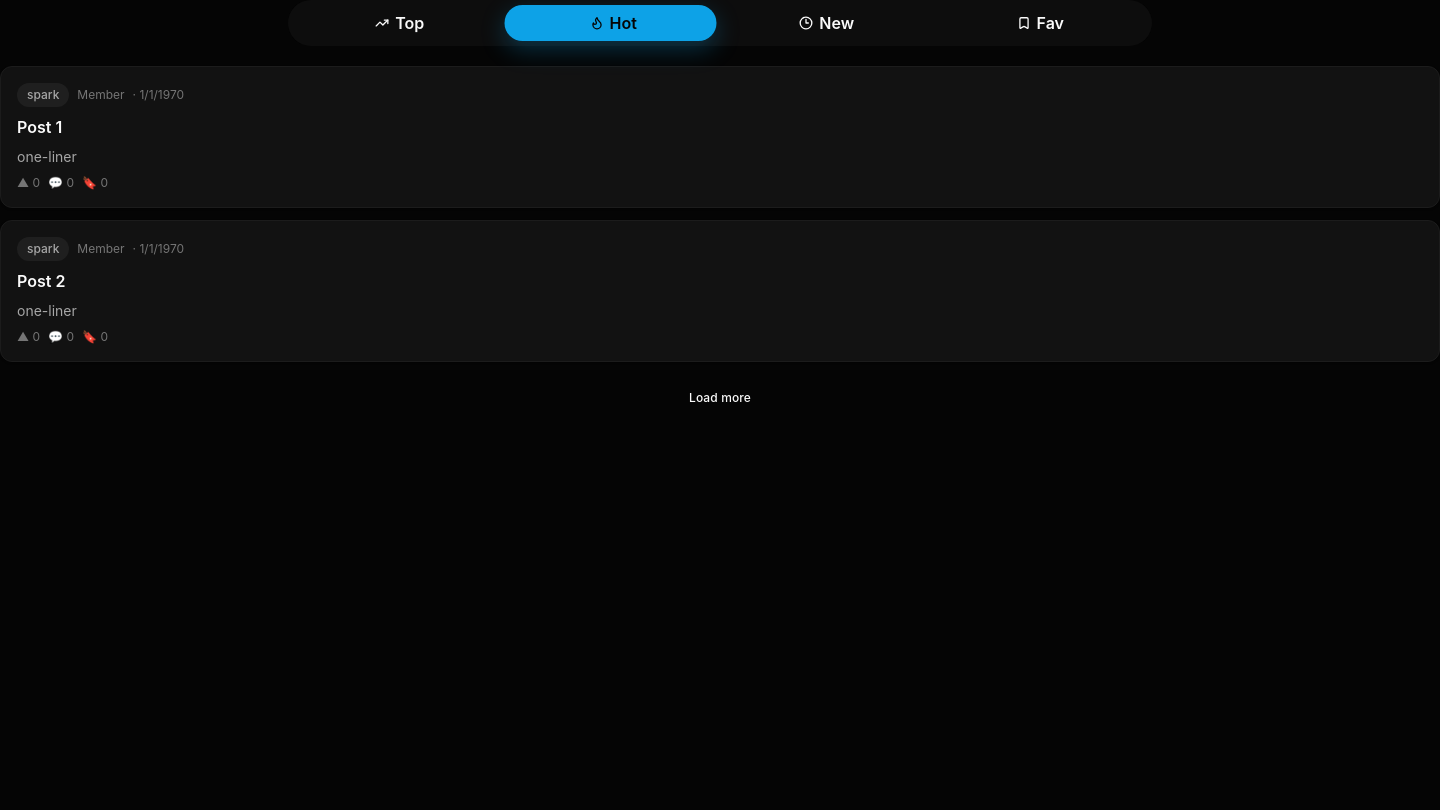
Test: review fix — duplicate cards on subscription push (CanonicalFeedClient) › a re-push of the current page replaces the tail instead of re-appending it
The image size is (1440, 810).
Expected: the number of links "Post 1" is 1, [17,117,62,137]
Expected: the number of links "Post 2" is 1, [17,271,65,291]
Click the button "Load more". click: coordinates (720, 398)
box: [677,382,763,414]
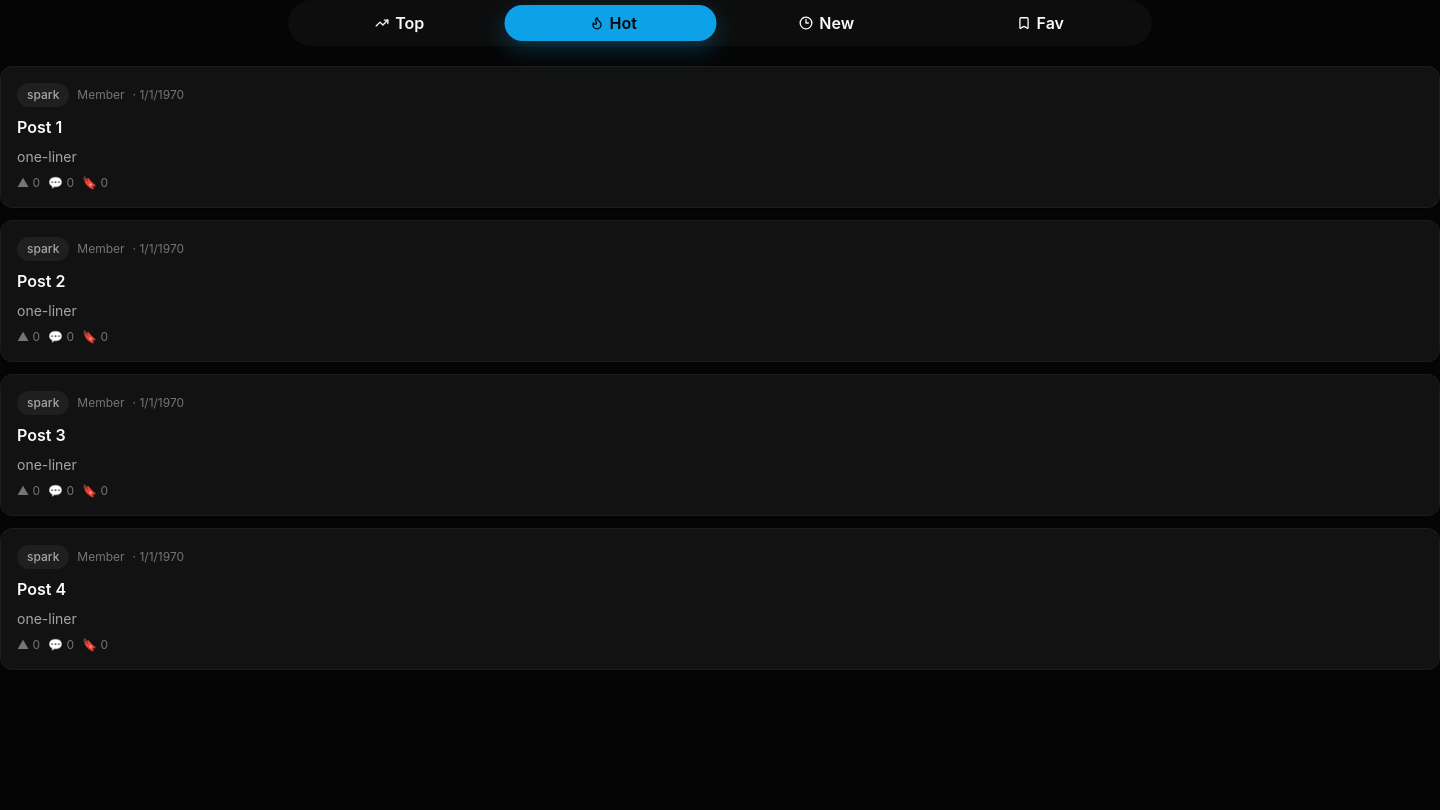
Now the number of links "Post 3" is 1, box [17,425,66,445]
Now the number of links "Post 4" is 1, box [17,579,66,599]
